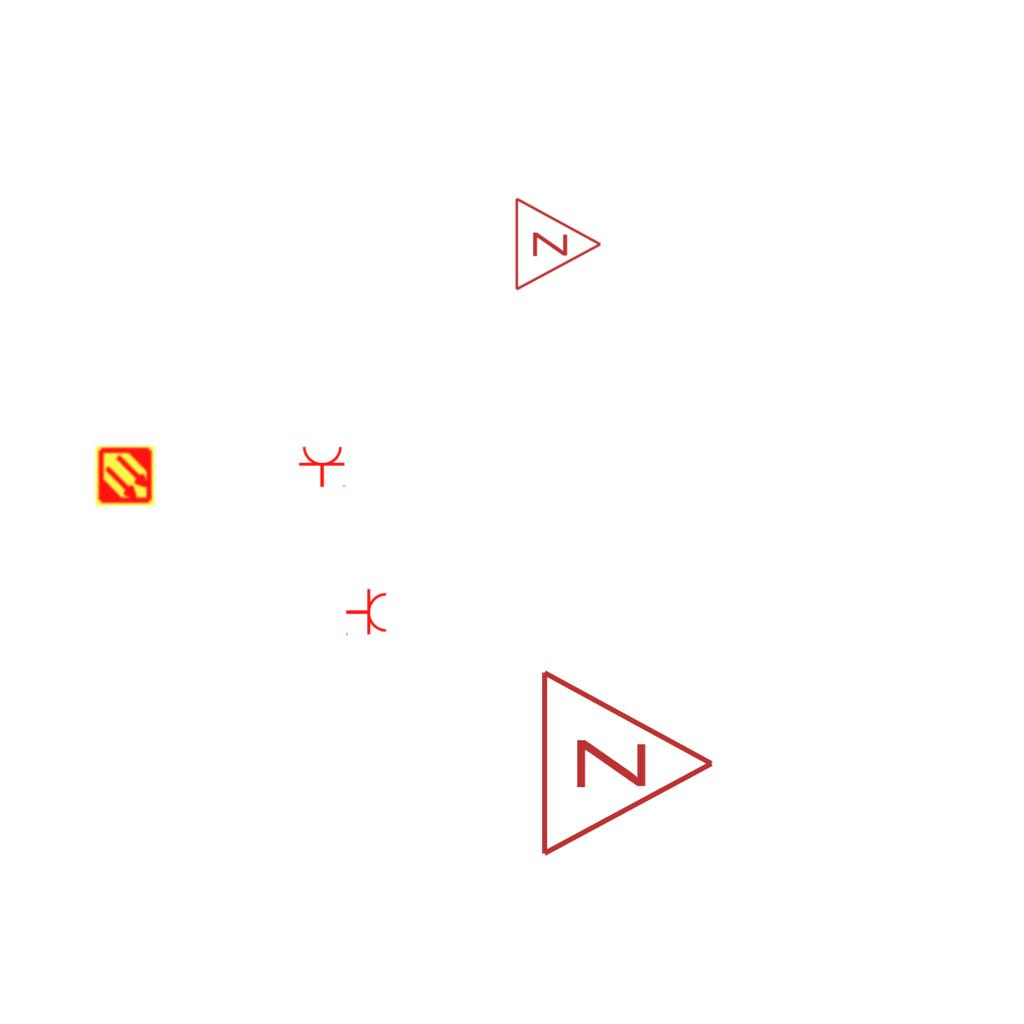ASR_Ansaugrauchmelder: (94, 445, 156, 507)
Schukosteckdose_einfach: (345, 588, 388, 638), (298, 445, 348, 488)
Zimmersignalleuchte: (527, 663, 727, 859), (508, 194, 608, 292)
